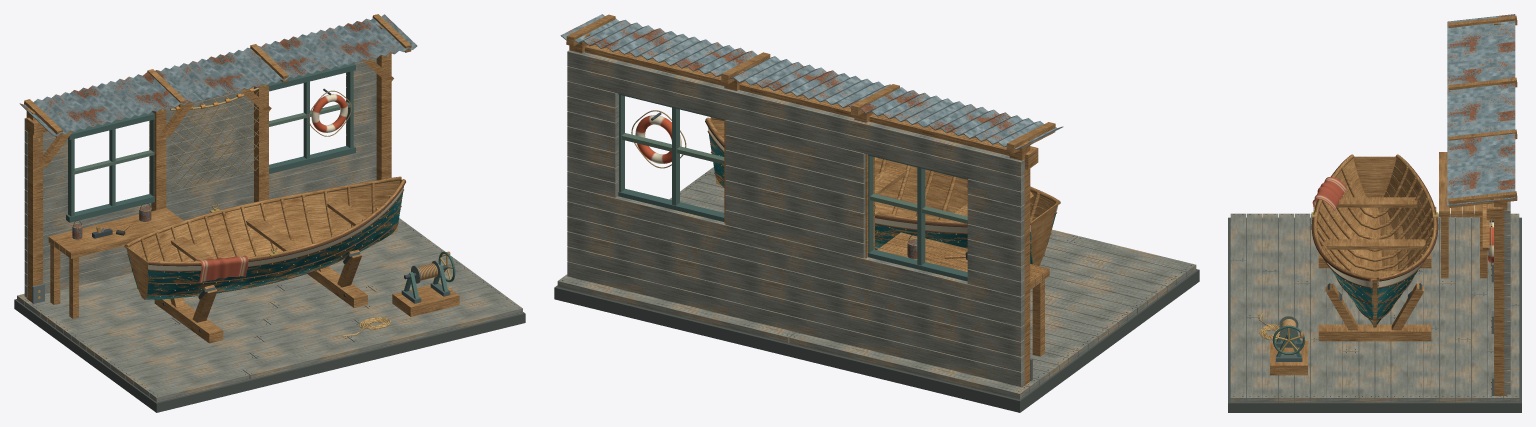
Rendered from harbor_boat_repair_shed.glb.
3 views of the same model, side by side, from view 1: azimuth 30°, elevation 25°; view 2: azimuth 150°, elevation 25°; view 3: azimuth 270°, elevation 25° (orthographic). The views are drawn at different scales.
Parts seen in each view (by area): view 1: 07 Salt-worn decking and clapboards, 03 Galvanized metal, enamel, fasteners and rope, 01 Oak workshop and inner ceiling, 02 Painted lapstrake planking; view 2: 07 Salt-worn decking and clapboards, 03 Galvanized metal, enamel, fasteners and rope, 01 Oak workshop and inner ceiling, 02 Painted lapstrake planking; view 3: 07 Salt-worn decking and clapboards, 03 Galvanized metal, enamel, fasteners and rope, 01 Oak workshop and inner ceiling, 02 Painted lapstrake planking.
Part boxes in pixels (left/top/right/bottom): 07 Salt-worn decking and clapboards: left=17, top=57, right=522, bottom=402; 03 Galvanized metal, enamel, fasteners and rope: left=14, top=14, right=525, bottom=412; 01 Oak workshop and inner ceiling: left=24, top=14, right=459, bottom=343; 02 Painted lapstrake planking: left=128, top=192, right=403, bottom=299; 07 Salt-worn decking and clapboards: left=557, top=50, right=1196, bottom=399; 03 Galvanized metal, enamel, fasteners and rope: left=554, top=14, right=1199, bottom=412; 01 Oak workshop and inner ceiling: left=566, top=14, right=1060, bottom=387; 02 Painted lapstrake planking: left=709, top=134, right=1056, bottom=264; 07 Salt-worn decking and clapboards: left=1230, top=201, right=1519, bottom=402; 03 Galvanized metal, enamel, fasteners and rope: left=1228, top=14, right=1521, bottom=412; 01 Oak workshop and inner ceiling: left=1270, top=15, right=1517, bottom=395; 02 Painted lapstrake planking: left=1332, top=270, right=1417, bottom=327.
Bounding box in the file's own units: 5.42 × 2.93 × 3.62.
4 materials, 4 textured.
